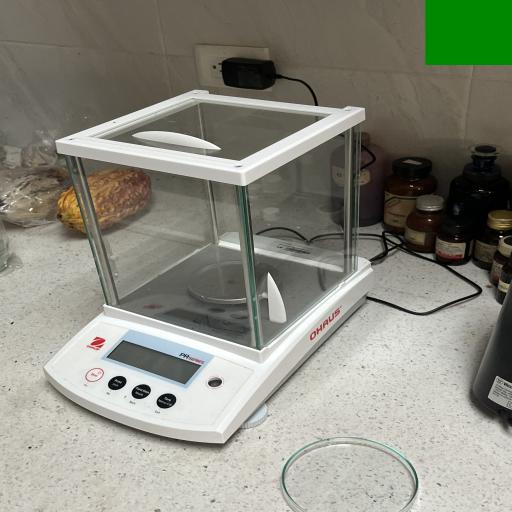Balanza_Analitica_Ohaus: (42, 85, 388, 450)
